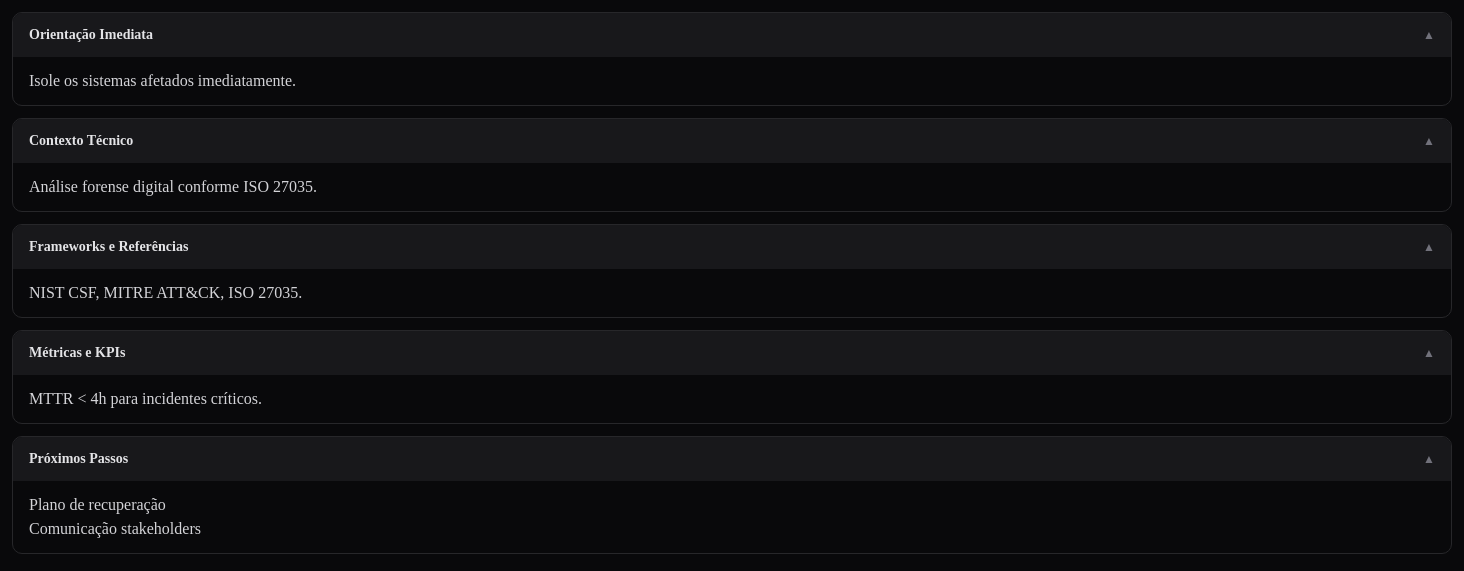
ResponseStream › seções podem ser colapsadas ao clicar no header
Expected: the text "Isole os sistemas afetados imediatamente." is shown, [29,72,296,89]
Click the button "Orientação Imediata ▲": [91, 34] box [13,13,1451,57]
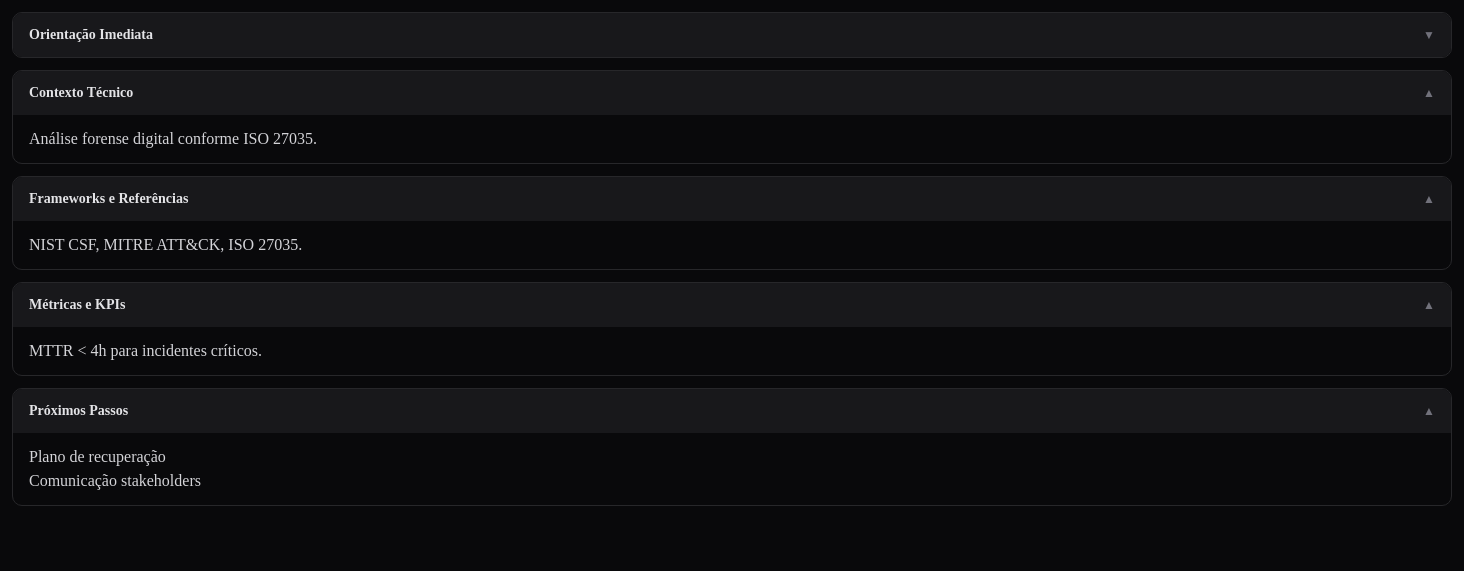
Result: the text "Isole os sistemas" is gone
// Expand again
Click the button "Orientação Imediata ▼": [91, 34] box [13,13,1451,57]
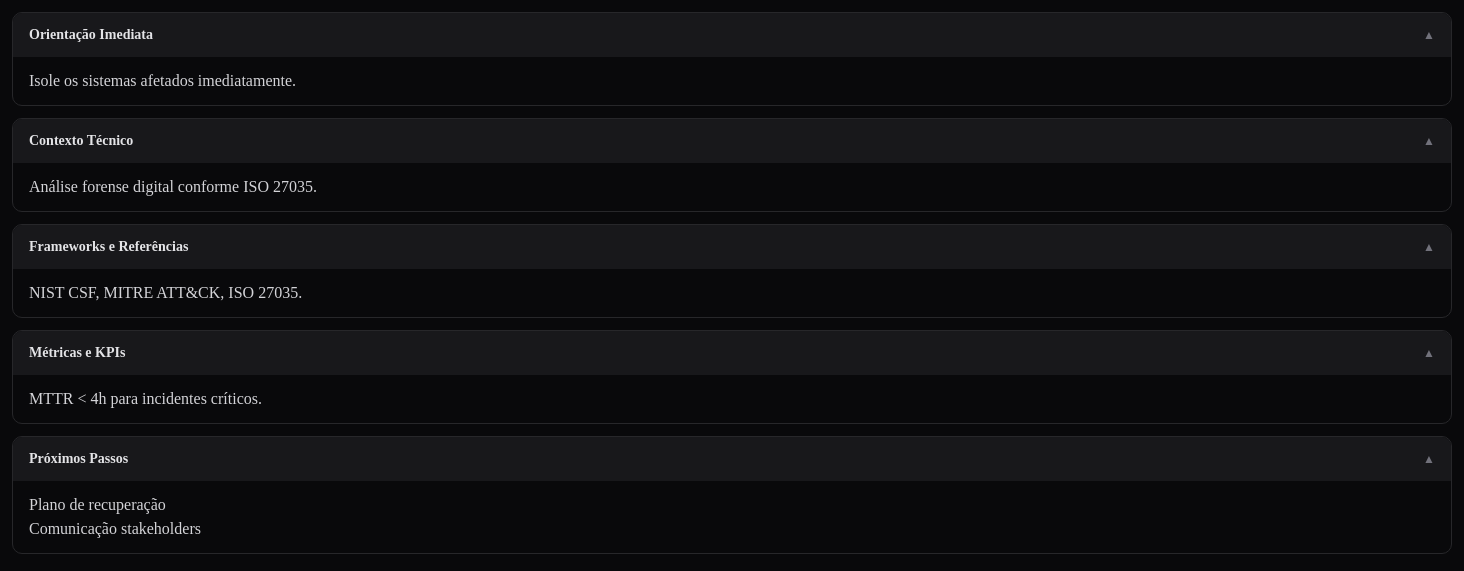
Result: the text "Isole os sistemas afetados imediatamente." is shown at [29,72,296,89]
